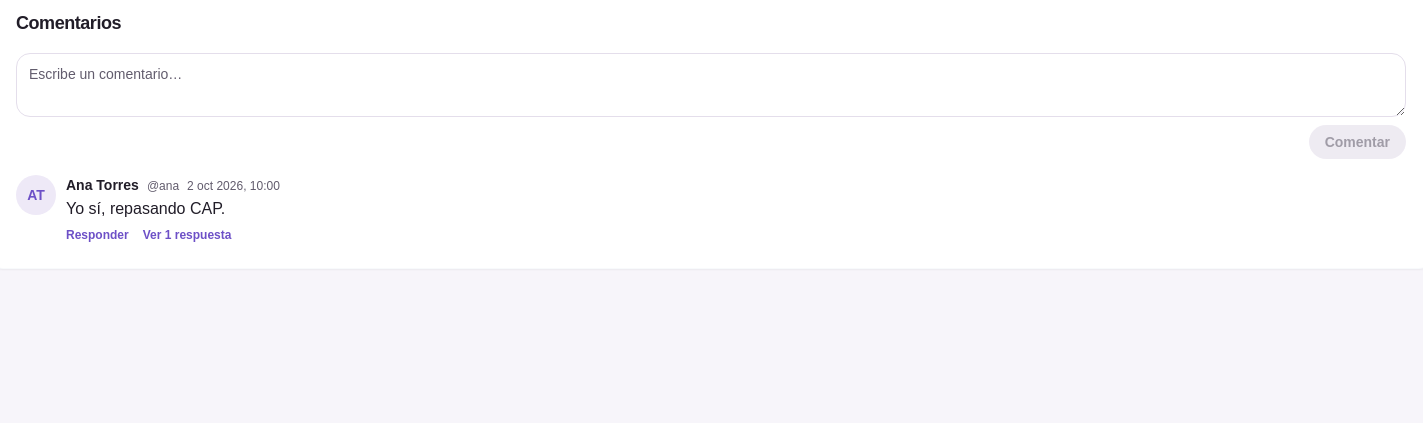
Scenario: unfolds each level with Ver N respuestas
Click the button "Ver 1 respuesta" at {"x": 187, "y": 235}, box [143,226,231,244]
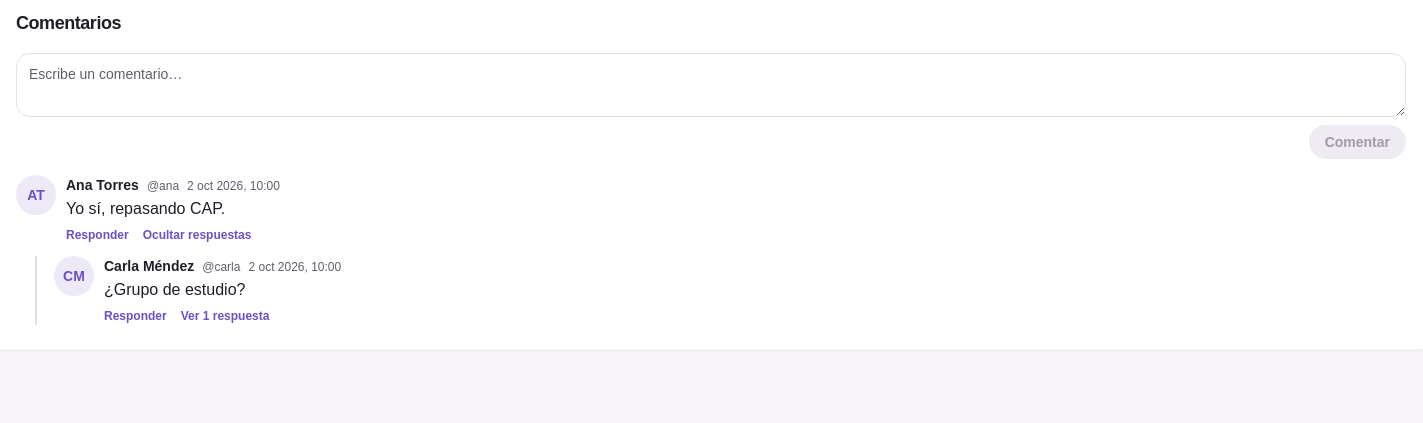
Check: the text "Me sumo." is not shown
Check: the text "¿Grupo de estudio?" is shown, box [104,281,245,298]
Click the button "Ver 1 respuesta" at {"x": 225, "y": 316}, box [181,307,269,325]
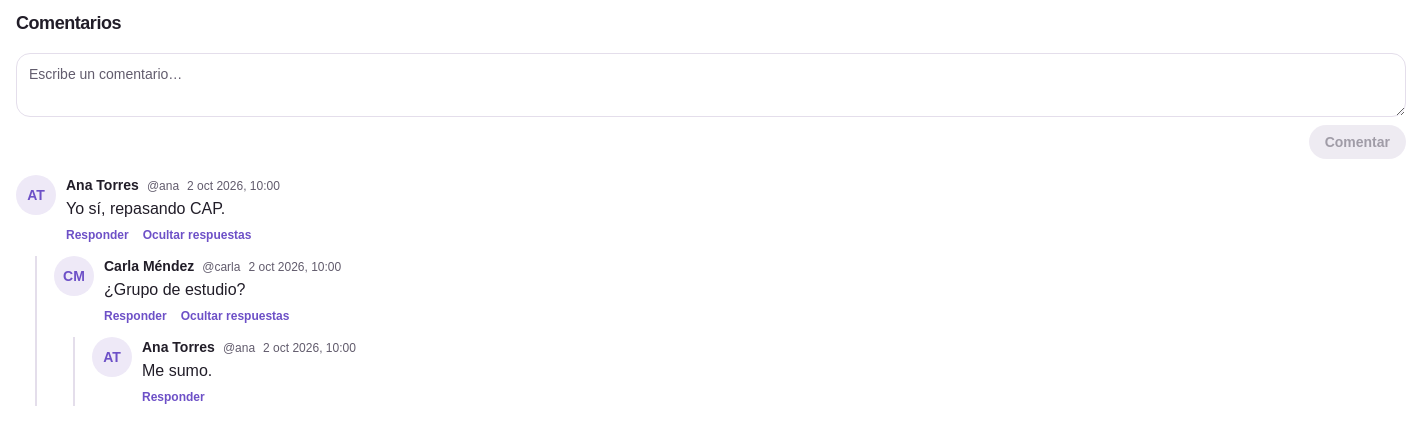
Check: the text "Me sumo." is shown, box [142,362,212,379]
Click the button "Ocultar respuestas" below "Yo sí, repasando CAP." at {"x": 197, "y": 235}, box [143,226,251,244]
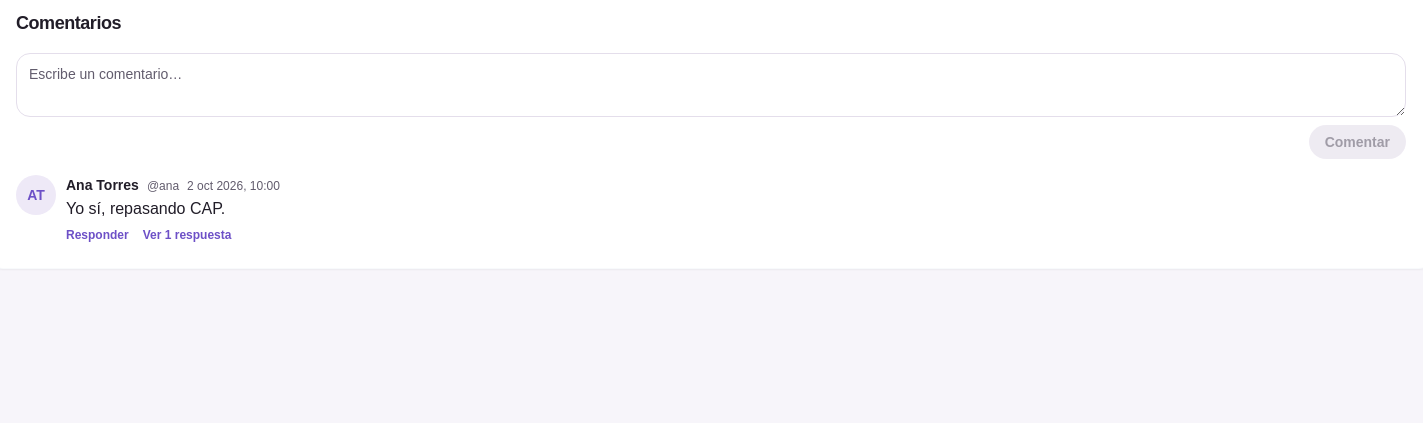
Check: the text "¿Grupo de estudio?" is gone
